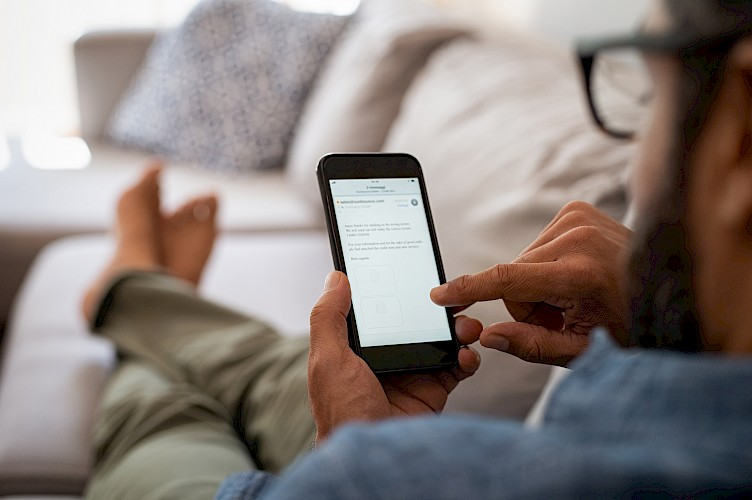Cell Phone: (316, 151, 465, 376)
